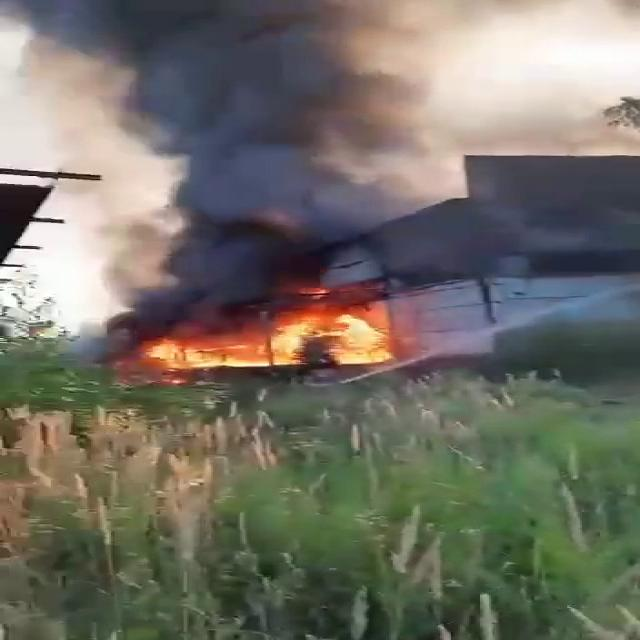Fire: (145, 304, 404, 372)
Smoke: (16, 0, 638, 336)
